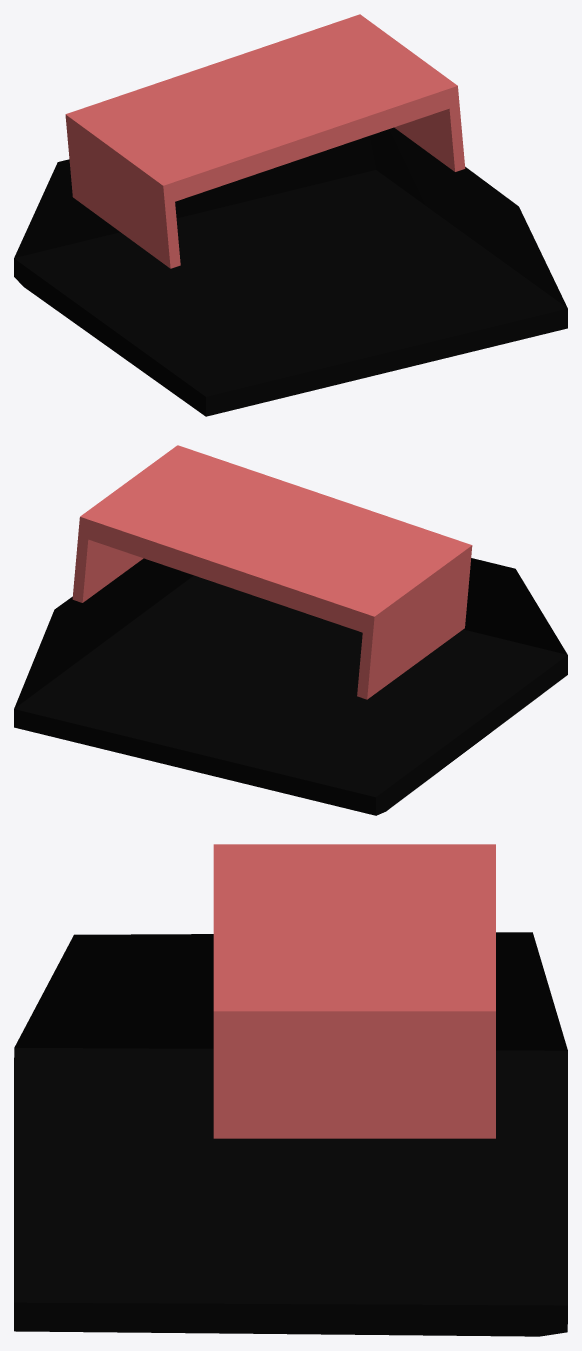
The model's file is RRU3.glb.
3 renders of one model, top to bottom at view 1: azimuth 30°, elevation 25°; view 2: azimuth 150°, elevation 25°; view 3: azimuth 270°, elevation 25°, orthographic. The views are drawn at different scales.
Size of the model in its own units: 0.1648 by 0.0894 by 0.1513.
